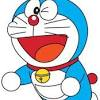doraemon: (1, 1, 99, 99)
